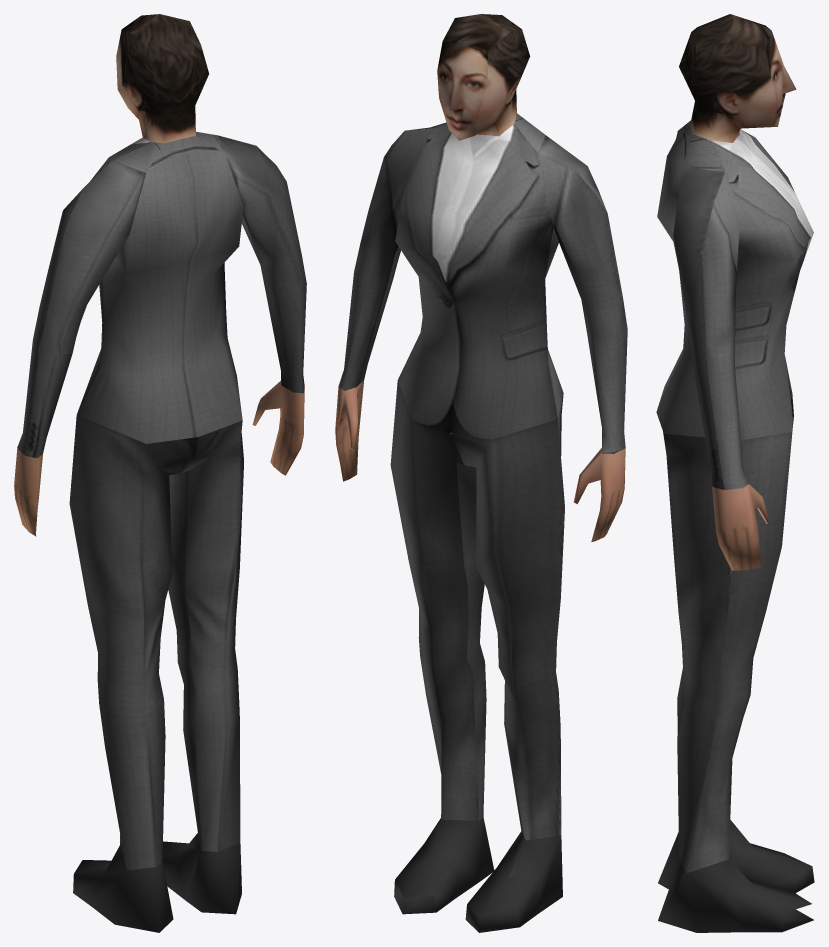
The model's file is LUCY.fbx.
3 views of the same model, side by side, from view 1: azimuth 30°, elevation 25°; view 2: azimuth 150°, elevation 25°; view 3: azimuth 270°, elevation 25° (orthographic).
Parts seen in each view (by area): view 1: Character_Female_01; view 2: Character_Female_01; view 3: Character_Female_01.
Boxes of the visible parts, x1=… form: Character_Female_01: x1=14, y1=14, x2=306, y2=932; Character_Female_01: x1=335, y1=14, x2=627, y2=932; Character_Female_01: x1=656, y1=14, x2=814, y2=932.
Bounding box in the file's own units: 54.84 × 165 × 26.66.
4 materials, 4 textured.
